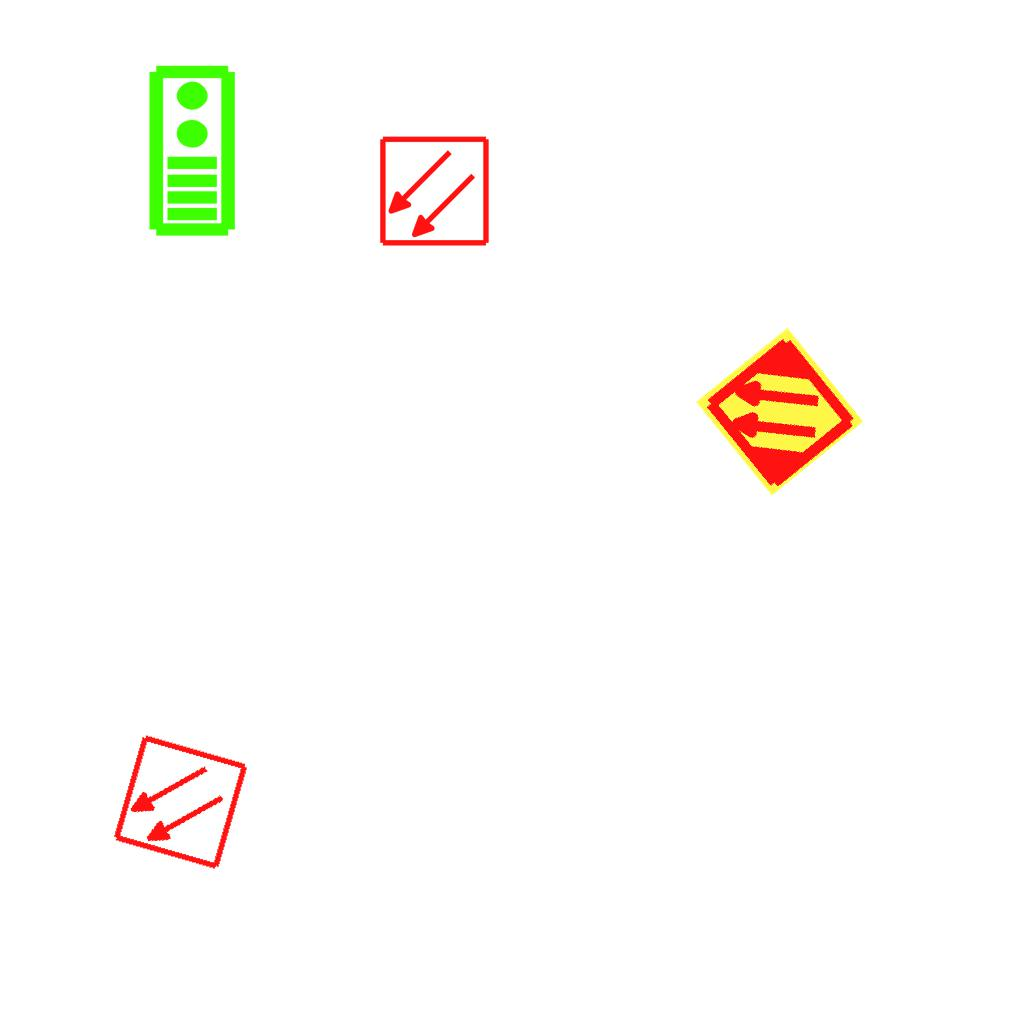ASR_Ansaugrauchmelder: (691, 323, 868, 500)
Gegensprechanlage_mit_Video: (143, 62, 238, 238)
RMO_Rauchmelder_optischer: (110, 732, 251, 873), (378, 135, 491, 248)
